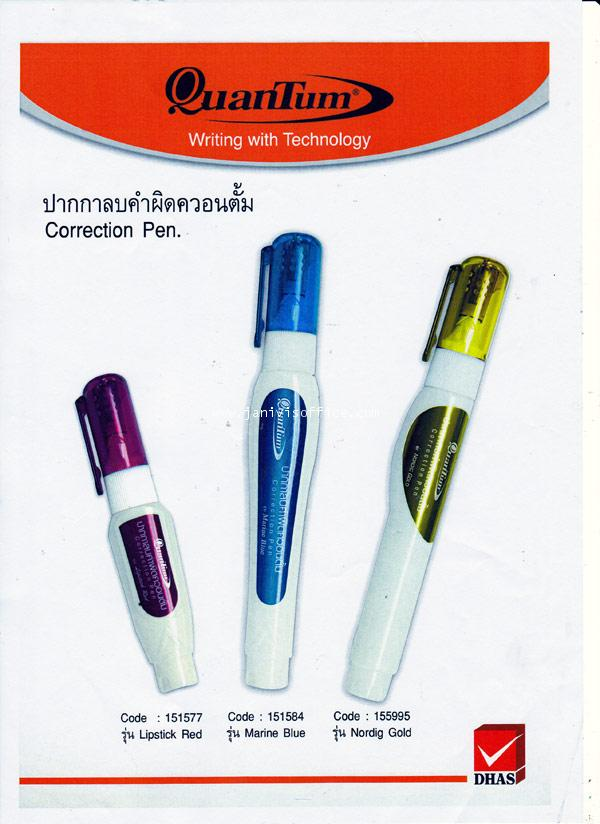Correction_fluid: (335, 248, 515, 707), (233, 222, 327, 696), (68, 366, 200, 702)
